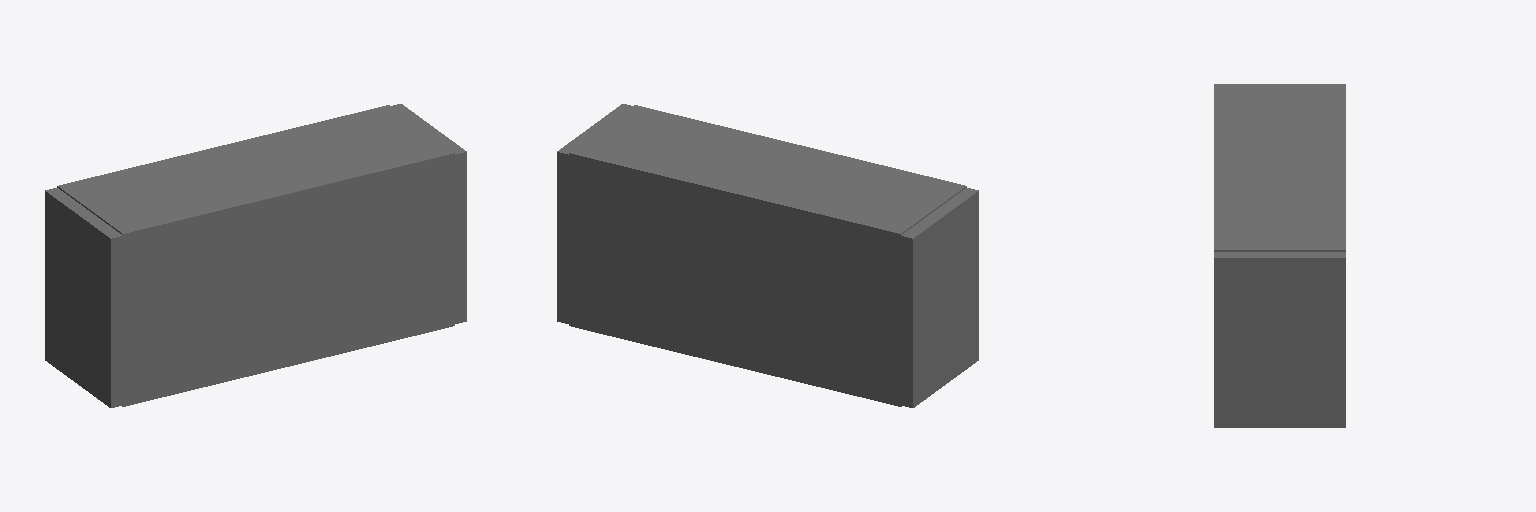
The model's file is Inventory.obj.
3 views of the same model, side by side, from view 1: azimuth 30°, elevation 25°; view 2: azimuth 150°, elevation 25°; view 3: azimuth 270°, elevation 25° (orthographic).
Parts seen in each view (by area): view 1: pCube10, pCube2, pCube6, pCube3, pCube5; view 2: pCube10, pCube2, pCube6, pCube3, pCube5; view 3: pCube5, pCube2, pCube6.
Part boxes in pixels (x1,y1,x2,y2): pCube10: (123,173,454,386); pCube2: (57,105,454,252); pCube6: (45,188,123,407); pCube3: (122,307,454,406); pCube5: (391,104,466,324); pCube10: (569,172,900,387); pCube2: (569,105,966,252); pCube6: (900,188,978,407); pCube3: (569,308,901,406); pCube5: (557,104,632,323); pCube5: (1214,252,1345,427); pCube2: (1214,89,1345,251); pCube6: (1214,84,1345,88).
Size of the model in its own units: 3.12 by 1.45 by 1.